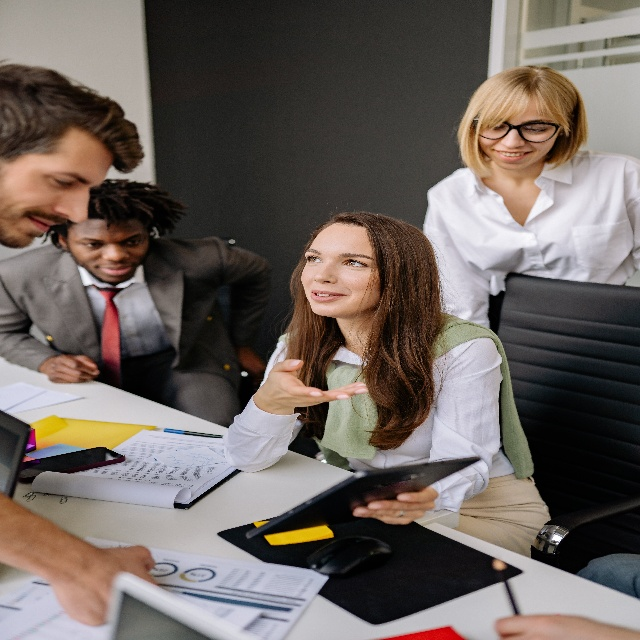Gafas: (472, 114, 560, 147)
Sin_guantes: (52, 538, 156, 628), (256, 355, 369, 409), (494, 603, 619, 640), (351, 478, 439, 527), (48, 353, 100, 385)
